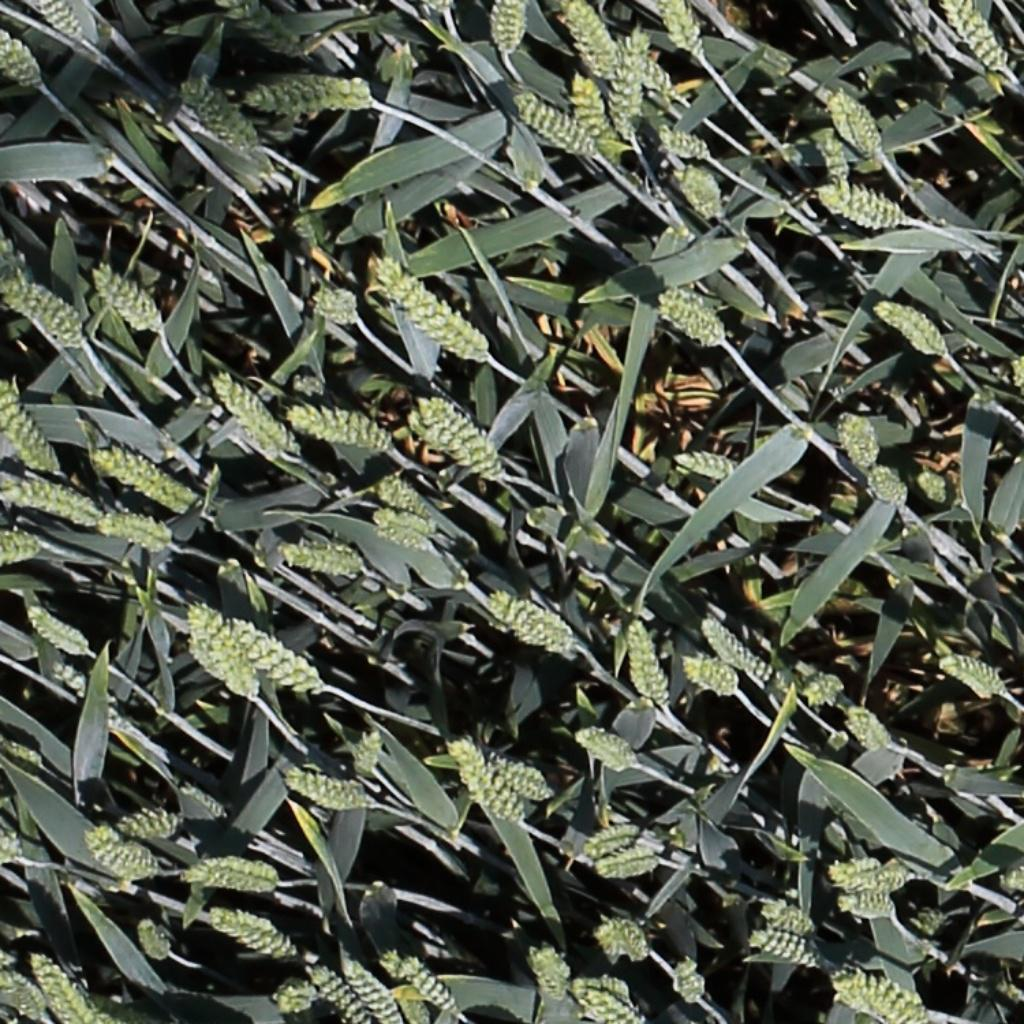0-0: (378, 262, 494, 362), (187, 606, 308, 692), (207, 370, 293, 457), (182, 606, 258, 701), (415, 397, 502, 476), (445, 740, 521, 830), (697, 615, 783, 693), (834, 960, 936, 1024), (87, 446, 189, 509), (0, 375, 61, 476), (86, 260, 171, 331), (176, 76, 256, 146), (379, 950, 460, 1017), (1, 279, 83, 344), (204, 907, 299, 962), (24, 946, 92, 1022), (510, 91, 592, 154), (644, 280, 723, 344), (942, 0, 1008, 76), (243, 69, 374, 107), (558, 0, 617, 84), (622, 617, 671, 712), (826, 86, 886, 161), (1, 477, 99, 522), (319, 958, 385, 1024), (484, 595, 570, 645), (219, 2, 300, 55), (872, 297, 947, 354), (337, 955, 400, 1022), (180, 851, 290, 888), (303, 959, 367, 1022), (281, 408, 387, 446), (80, 830, 152, 882), (815, 182, 906, 223), (611, 27, 644, 140), (566, 64, 610, 146), (283, 772, 372, 811), (477, 755, 551, 800), (23, 606, 88, 656), (670, 159, 723, 219), (656, 0, 705, 62), (834, 406, 879, 473), (0, 21, 45, 88), (746, 928, 821, 968), (524, 942, 569, 1008), (842, 703, 892, 759), (107, 797, 178, 836), (937, 656, 1006, 696), (371, 475, 430, 520), (1, 968, 49, 1022), (572, 730, 633, 772), (569, 984, 636, 1022), (631, 52, 677, 105), (277, 546, 361, 574), (816, 124, 851, 191), (681, 656, 738, 696), (596, 920, 648, 963), (94, 518, 167, 548), (348, 724, 383, 785), (865, 462, 909, 510), (912, 466, 959, 510), (828, 869, 906, 895), (759, 902, 813, 939), (131, 914, 170, 965), (580, 826, 638, 860), (35, 0, 81, 42), (372, 514, 428, 548), (671, 954, 705, 1008), (174, 785, 223, 820), (656, 126, 711, 157), (593, 851, 658, 877), (389, 980, 427, 1024), (494, 0, 520, 61), (671, 454, 735, 477), (834, 895, 895, 918), (1, 740, 43, 771), (1010, 352, 1024, 443), (309, 290, 354, 318), (271, 988, 316, 1014), (1, 539, 42, 559)
